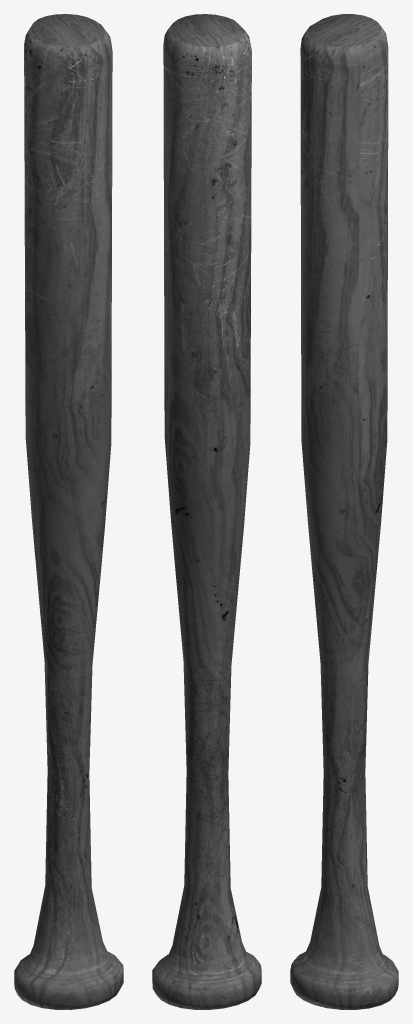
The model's file is Bonk.fbx.
3 renders of one model, left to right at view 1: azimuth 30°, elevation 25°; view 2: azimuth 210°, elevation 25°; view 3: azimuth 330°, elevation 25°, orthographic.
Visible parts, largest first — view 1: Handle1; view 2: Handle1; view 3: Handle1.
Boxes of the visible parts, x1=… form: Handle1: x1=14, y1=14, x2=123, y2=1009; Handle1: x1=152, y1=14, x2=261, y2=1009; Handle1: x1=290, y1=14, x2=398, y2=1009.
Bounding box in the file's own units: 59.08 × 557 × 52.32.
Materials: 1 (1 with a texture image).
